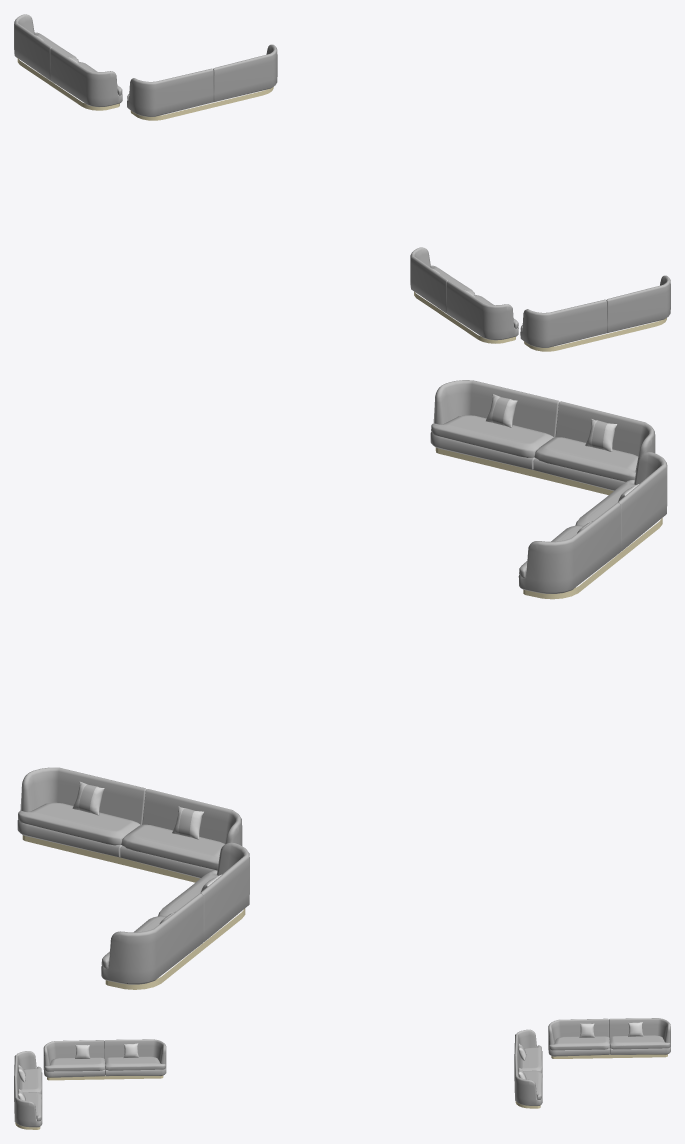
The model's file is Sofa.fbx.
3 renders of one model, top to bottom at view 1: azimuth 30°, elevation 25°; view 2: azimuth 150°, elevation 25°; view 3: azimuth 270°, elevation 25°, orthographic. The views are drawn at different scales.
Parts seen in each view (by area): view 1: Sofa; view 2: Sofa; view 3: Sofa.
Boxes of the visible parts, box(x1,y1,x2,y2) form: Sofa: box(14, 14, 670, 351); Sofa: box(17, 380, 667, 989); Sofa: box(14, 1018, 670, 1129).
Bounding box in the file's own units: 622 × 99.99 × 2041.
